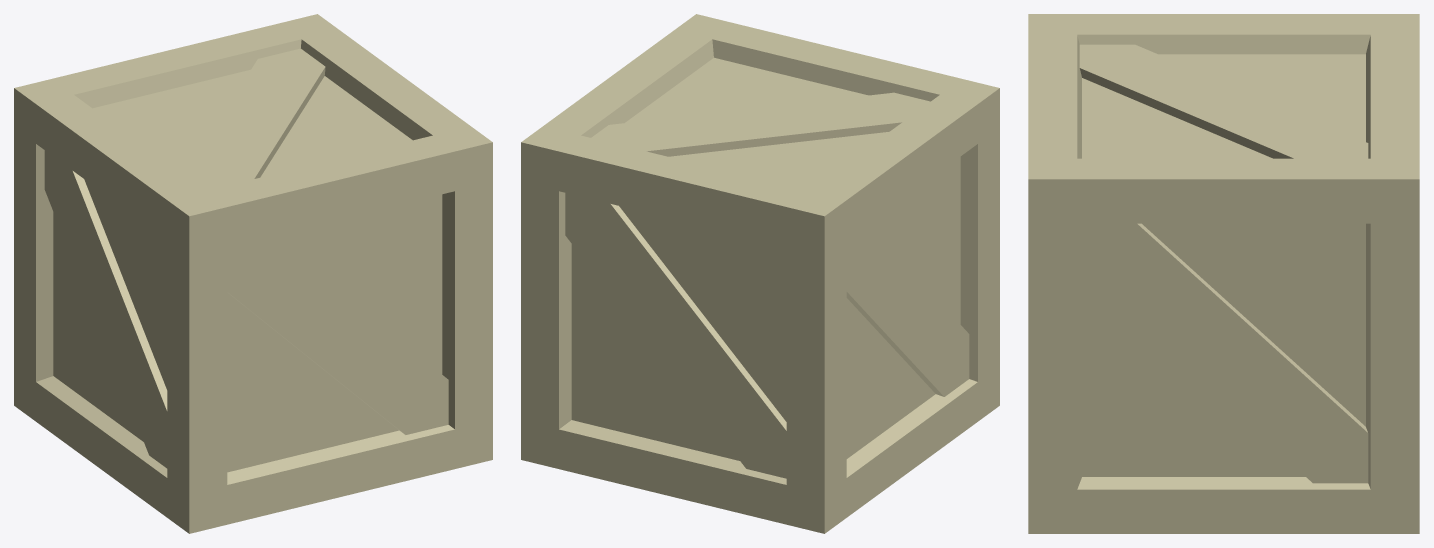
File: Crate.FBX
The picture shows the model from 3 angles, left to right: view 1: azimuth 30°, elevation 25°; view 2: azimuth 150°, elevation 25°; view 3: azimuth 270°, elevation 25°; orthographic projection. The views are drawn at different scales.
Parts seen in each view (by area): view 1: Crate; view 2: Crate; view 3: Crate.
Part boxes in pixels (left/top/right/bottom): Crate: left=14, top=14, right=492, bottom=533; Crate: left=521, top=14, right=999, bottom=533; Crate: left=1028, top=14, right=1419, bottom=533.
Size of the model in its own units: 80 by 80 by 80.
